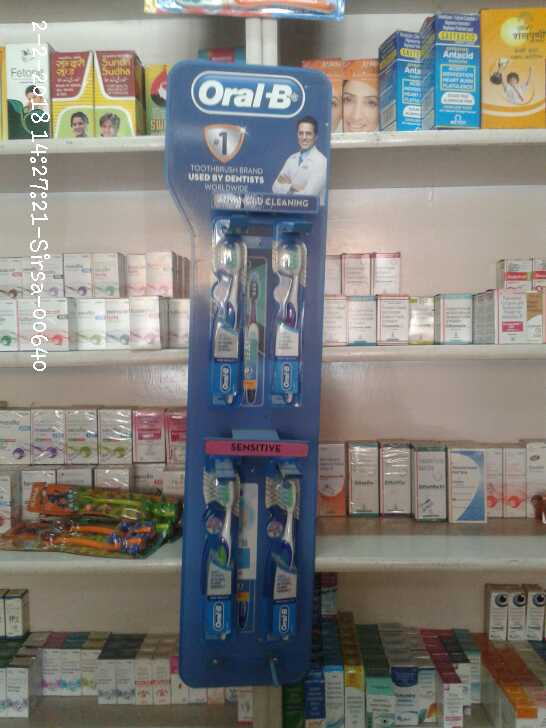oralb: (202, 230, 246, 405), (208, 457, 240, 633), (267, 227, 297, 401)
